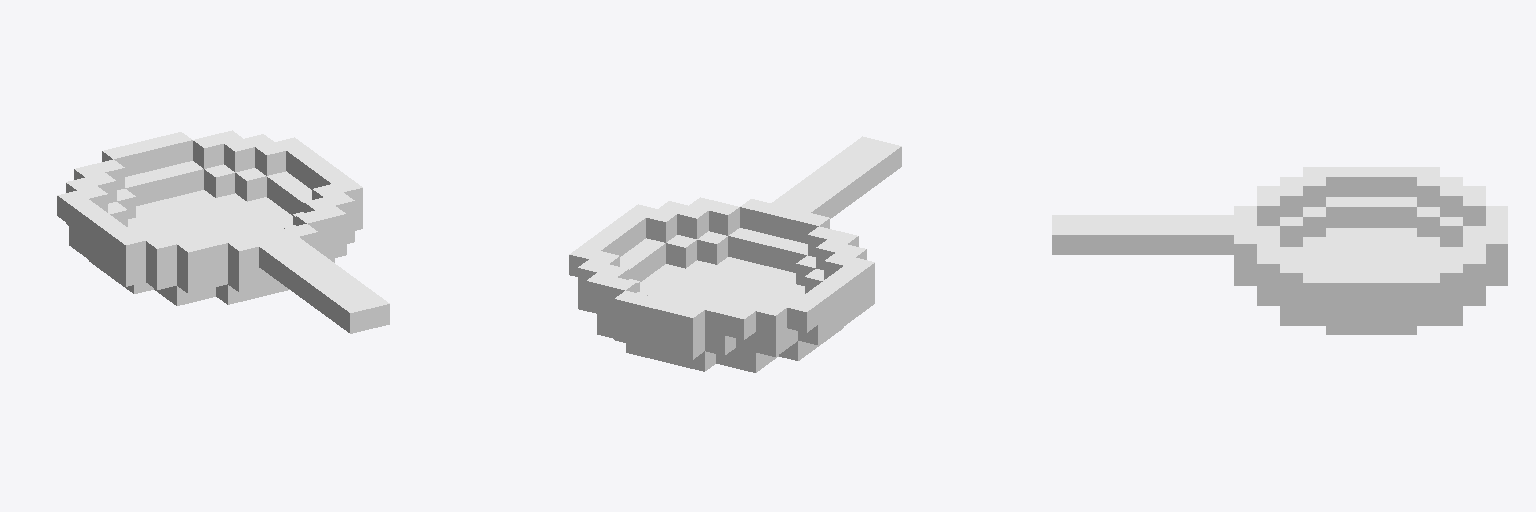
Rendered from FryingPan.obj.
The picture shows the model from 3 angles: view 1: azimuth 30°, elevation 25°; view 2: azimuth 150°, elevation 25°; view 3: azimuth 270°, elevation 25°; orthographic projection.
Parts seen in each view (by area): view 1: object 1; view 2: object 1; view 3: object 1.
Boxes of the visible parts, <box> form: object 1: <box>57,130,389,333</box>; object 1: <box>569,136,901,372</box>; object 1: <box>1052,167,1507,334</box>.
Size of the model in its own units: 1.2 by 0.3 by 2.